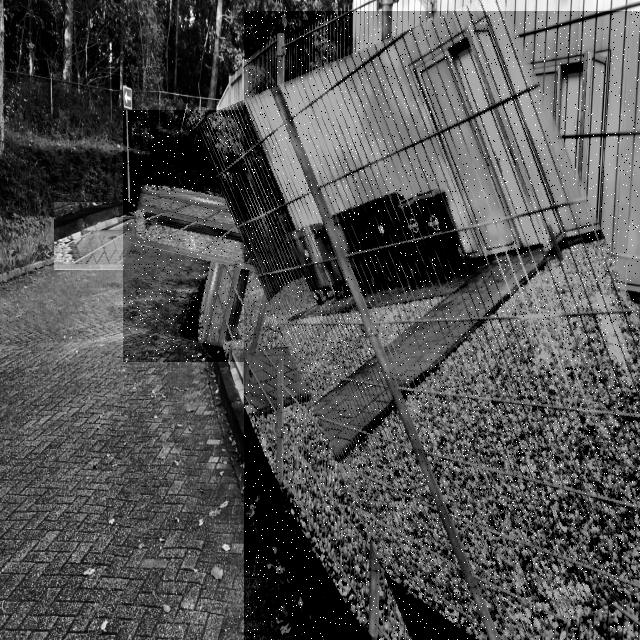fences: (244, 11, 640, 640), (123, 110, 375, 362)
